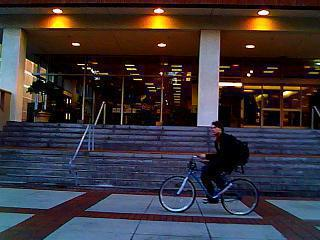Escaleras: (5, 148, 319, 213), (6, 116, 319, 153)
